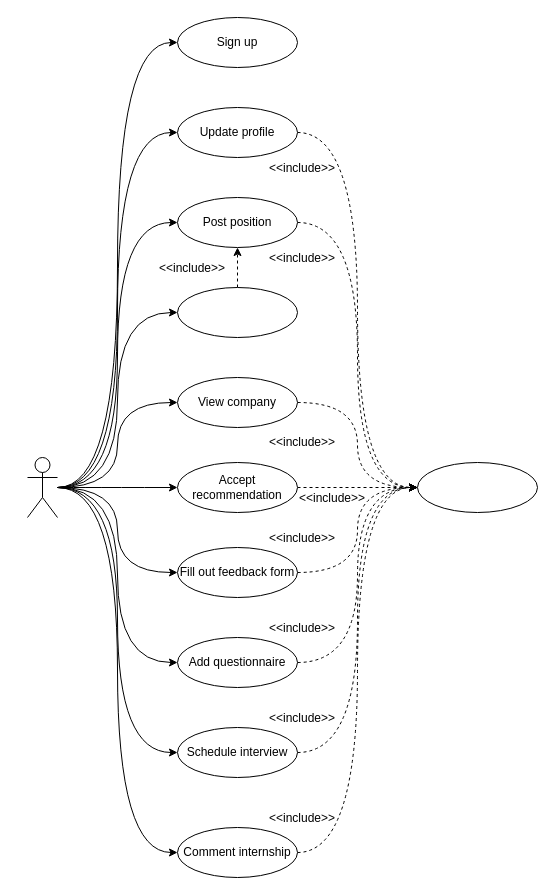
The diagram is 555 pixels wide and 895 high, and some of its shapes have lost their labels. Here are the shapes that lost their labels. From the top down, the box of each, then its label:
(176, 286, 298, 338): Remove position
(26, 456, 58, 518): Company
(416, 462, 538, 512): Log in
